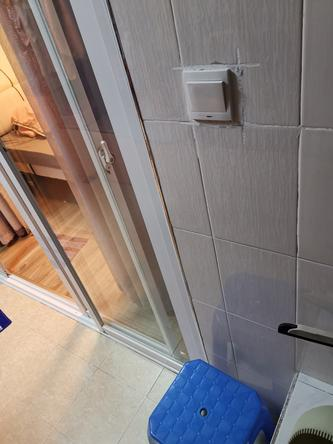switch: (184, 77, 230, 116)
